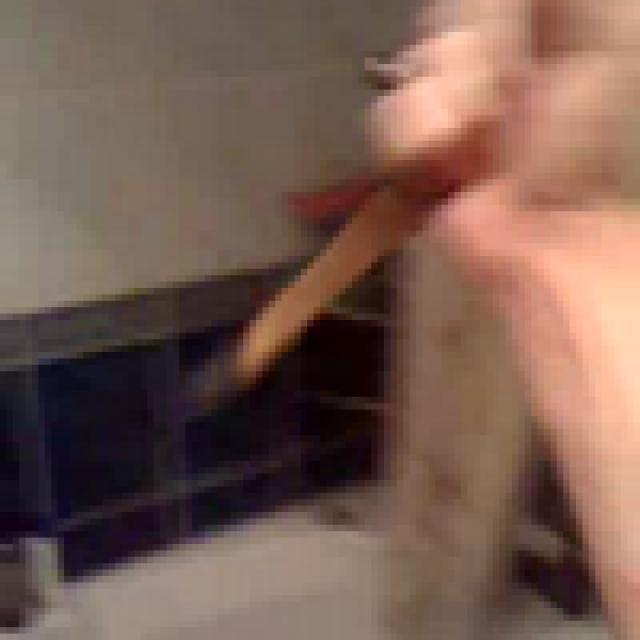knife: (166, 0, 525, 416)
